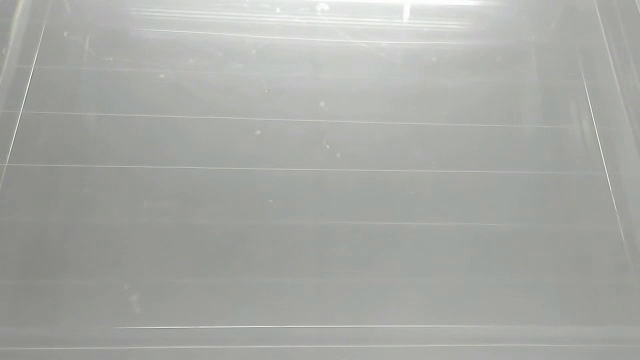alpha: (399, 1, 412, 25)
